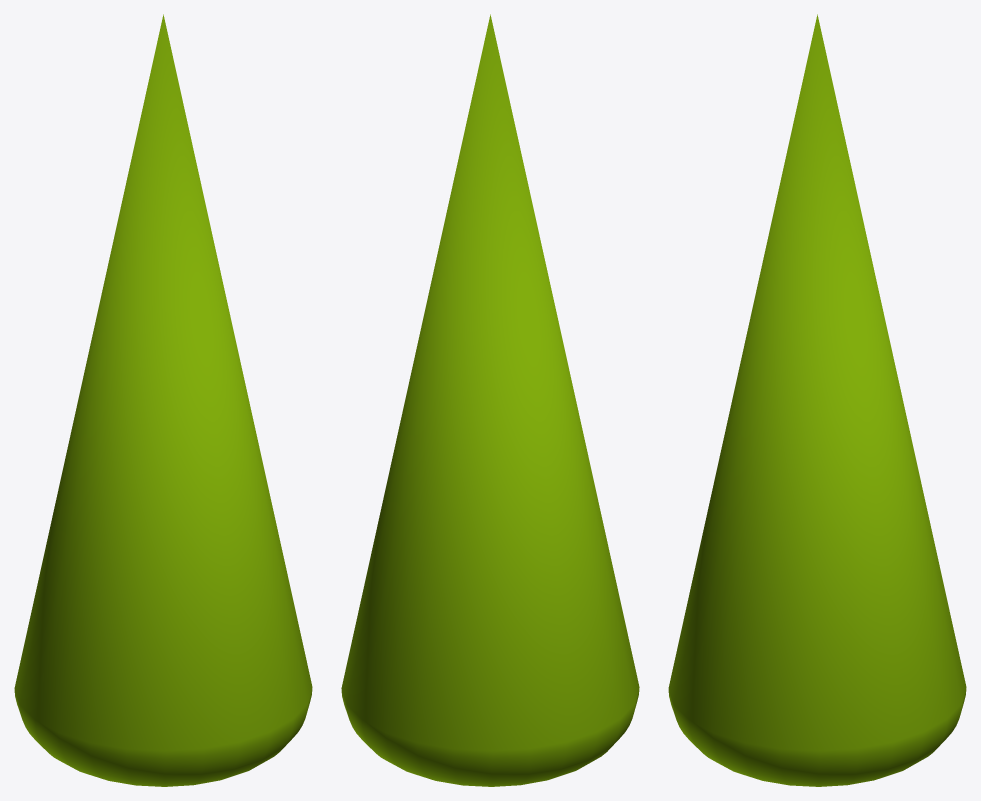
Rendered from HPKo14m.glb.
The picture shows the model from 3 angles, left to right: view 1: azimuth 30°, elevation 25°; view 2: azimuth 150°, elevation 25°; view 3: azimuth 270°, elevation 25°; orthographic projection.
Visible parts, largest first — view 1: HPKo14m; view 2: HPKo14m; view 3: HPKo14m.
Part boxes in pixels (x1=…): HPKo14m: x1=14, y1=14, x2=312, y2=786; HPKo14m: x1=341, y1=14, x2=639, y2=786; HPKo14m: x1=668, y1=14, x2=966, y2=786.
Size of the model in its own units: 5.01 by 13.6 by 5.01.
